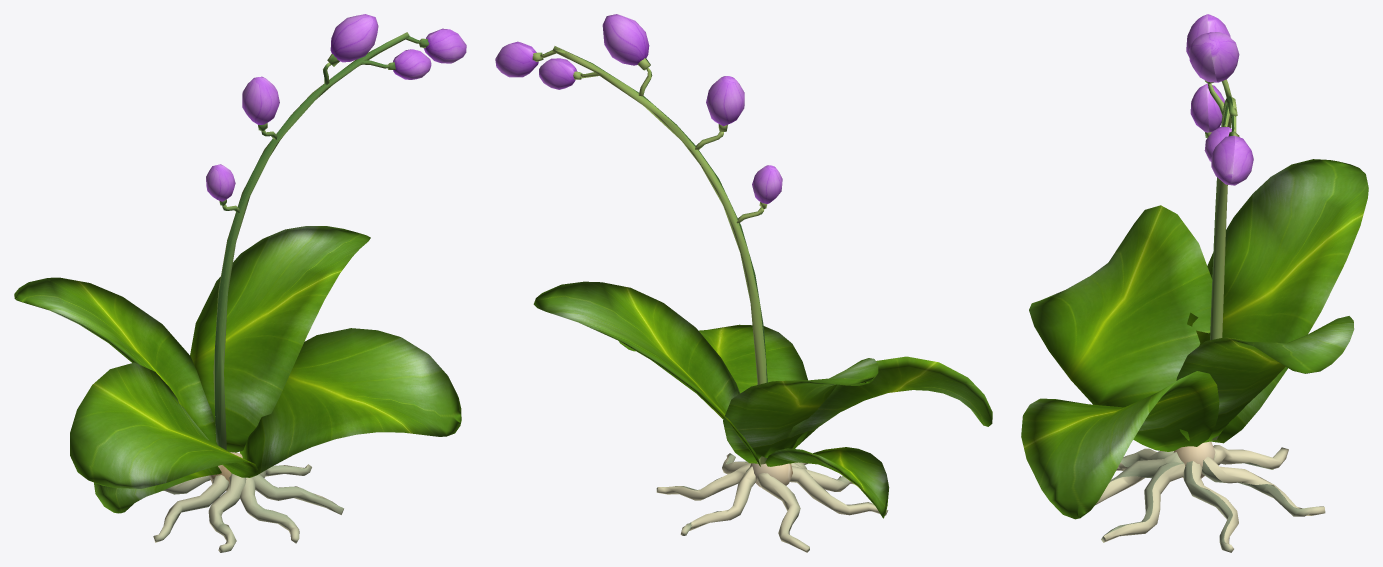
The model's file is NP_Orchid_BudForming_LOD1.fbx.
3 renders of one model, left to right at view 1: azimuth 30°, elevation 25°; view 2: azimuth 150°, elevation 25°; view 3: azimuth 270°, elevation 25°, orthographic. The views are drawn at different scales.
Parts seen in each view (by area): view 1: NP_Orchid_BudForming; view 2: NP_Orchid_BudForming; view 3: NP_Orchid_BudForming.
Boxes of the visible parts, left/top/right/bottom form: NP_Orchid_BudForming: left=14, top=14, right=466, bottom=552; NP_Orchid_BudForming: left=495, top=14, right=992, bottom=552; NP_Orchid_BudForming: left=1021, top=14, right=1368, bottom=552.
Size of the model in its own units: 90.3 by 88.23 by 50.9.
